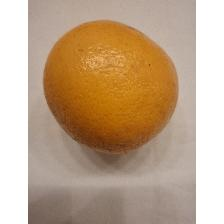Orange: (42, 19, 180, 157)
